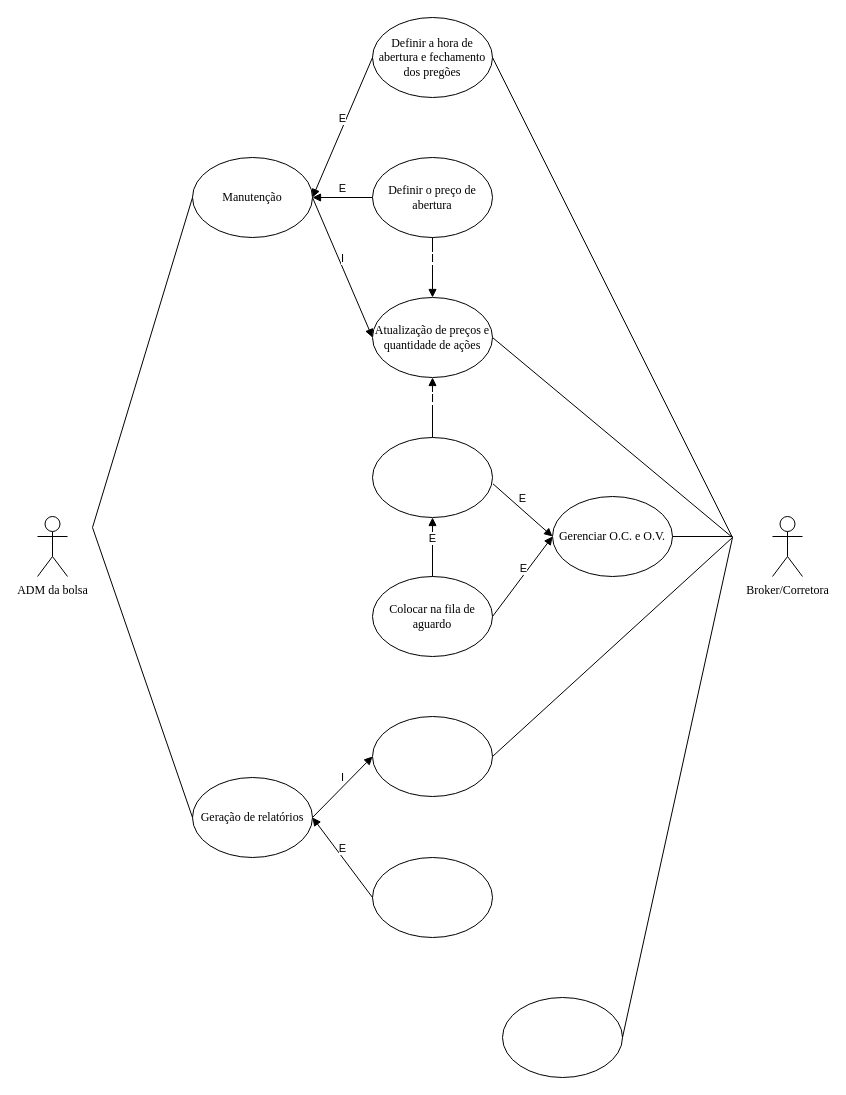
The diagram is 846 pixels wide and 1095 high, and some of its shapes have lost their labels. Here are the shapes that lost their labels. From the top down, the centre of each, then its label:
point 432,477: Executar O.C. ou O.V.
point 432,756: Consolidar relatórios do dia
point 432,897: Gerar relatórios para auditoria
point 562,1037: Validação de clientes
